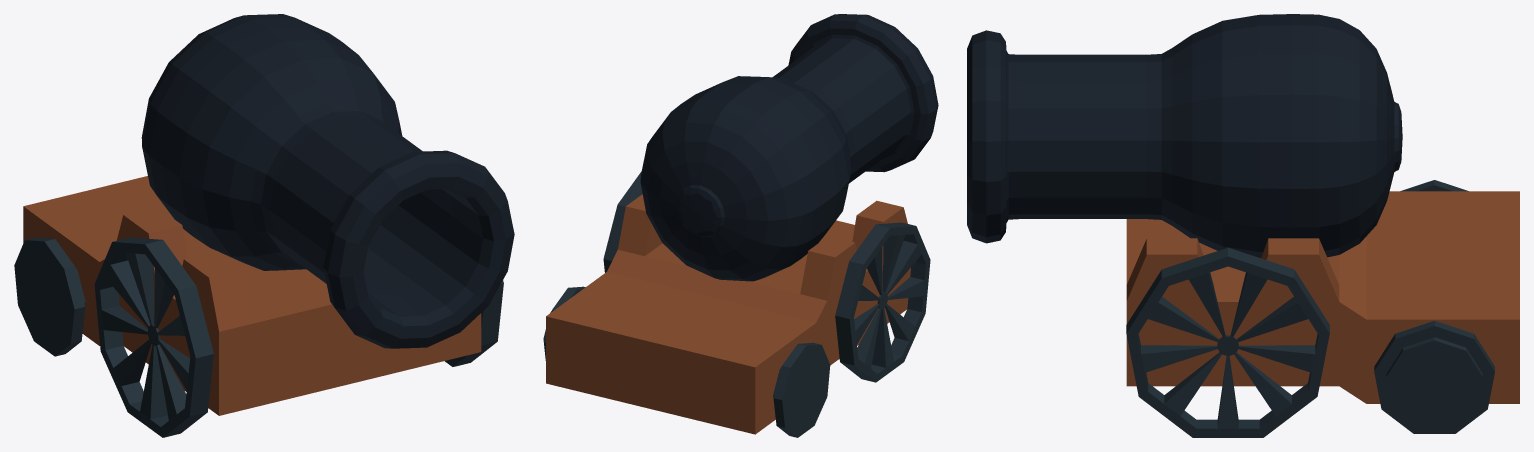
The model's file is gun.glb.
3 views of the same model, side by side, from view 1: azimuth 30°, elevation 25°; view 2: azimuth 150°, elevation 25°; view 3: azimuth 270°, elevation 25° (orthographic). The views are drawn at different scales.
Visible parts, largest first — view 1: пушка; view 2: пушка; view 3: пушка.
Boxes of the visible parts, x1,y1,x2,y2 form: пушка: (14,14,514,437); пушка: (543,14,938,437); пушка: (967,14,1519,437).
Bounding box in the file's own units: 0.6917 × 0.7209 × 1.07.
Materials: 1 (1 with a texture image).
